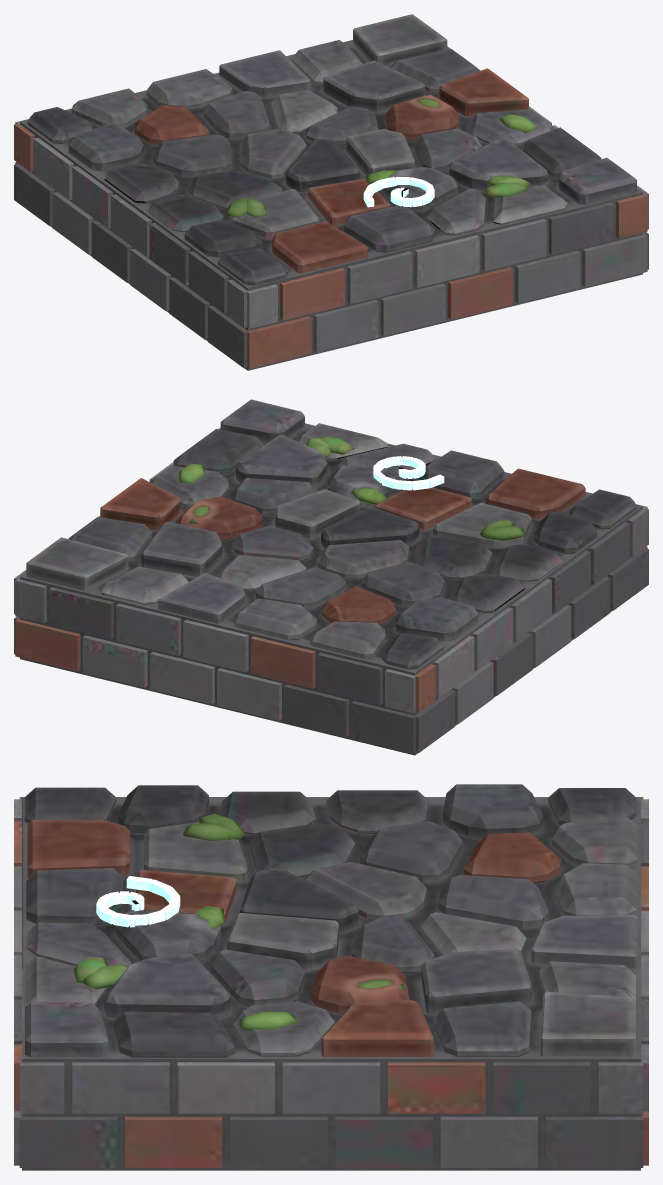
File: plate_1_stribog.glb
3 views of the same model, one above another, from view 1: azimuth 30°, elevation 25°; view 2: azimuth 150°, elevation 25°; view 3: azimuth 270°, elevation 25° (orthographic). The views are drawn at different scales.
Visible parts, largest first — view 1: plate_1_stribog; view 2: plate_1_stribog; view 3: plate_1_stribog.
Boxes of the visible parts, bbox=[...] form: plate_1_stribog: bbox=[14, 14, 648, 370]; plate_1_stribog: bbox=[14, 399, 648, 755]; plate_1_stribog: bbox=[14, 784, 648, 1170].
Size of the model in its own units: 2.01 by 0.484 by 2.01.
1 material, 1 textured.
